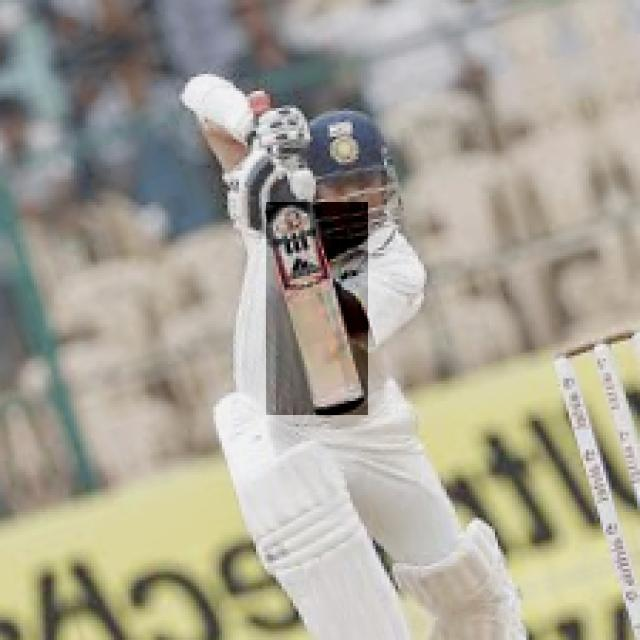bat: (266, 201, 372, 415)
toe: (311, 395, 371, 423)
